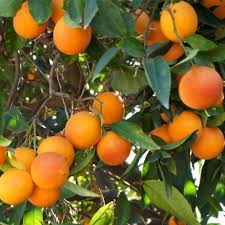orange: (176, 64, 224, 108), (157, 2, 201, 41), (51, 15, 93, 55), (30, 148, 70, 187), (66, 110, 101, 149), (98, 128, 132, 168), (90, 88, 125, 126), (166, 110, 202, 146), (1, 167, 31, 206)
